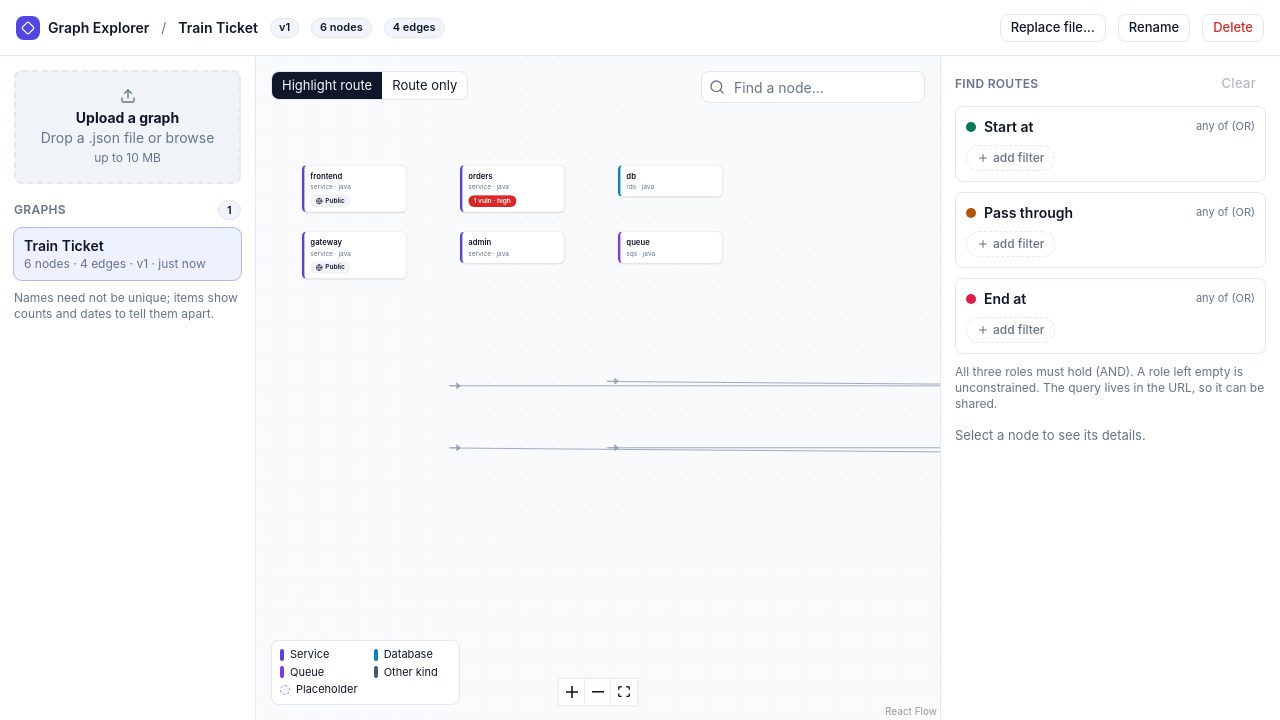
Test case: route query › lists custom filters with their descriptions and match counts
Click the button named "Add filter to \"End at\"" at x=1011, y=330, box [966,317,1055,343]
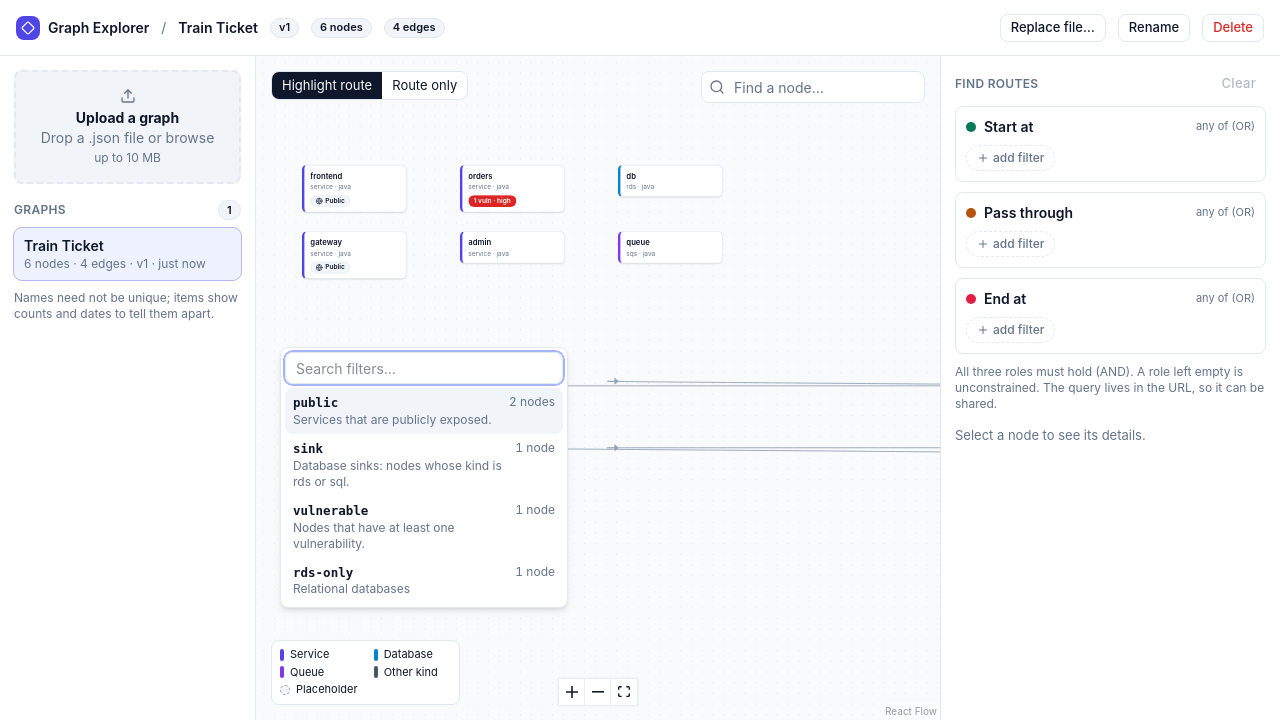
Check: the option "rds-only Relational databases 1 node" is shown, box [285,558,563,603]
